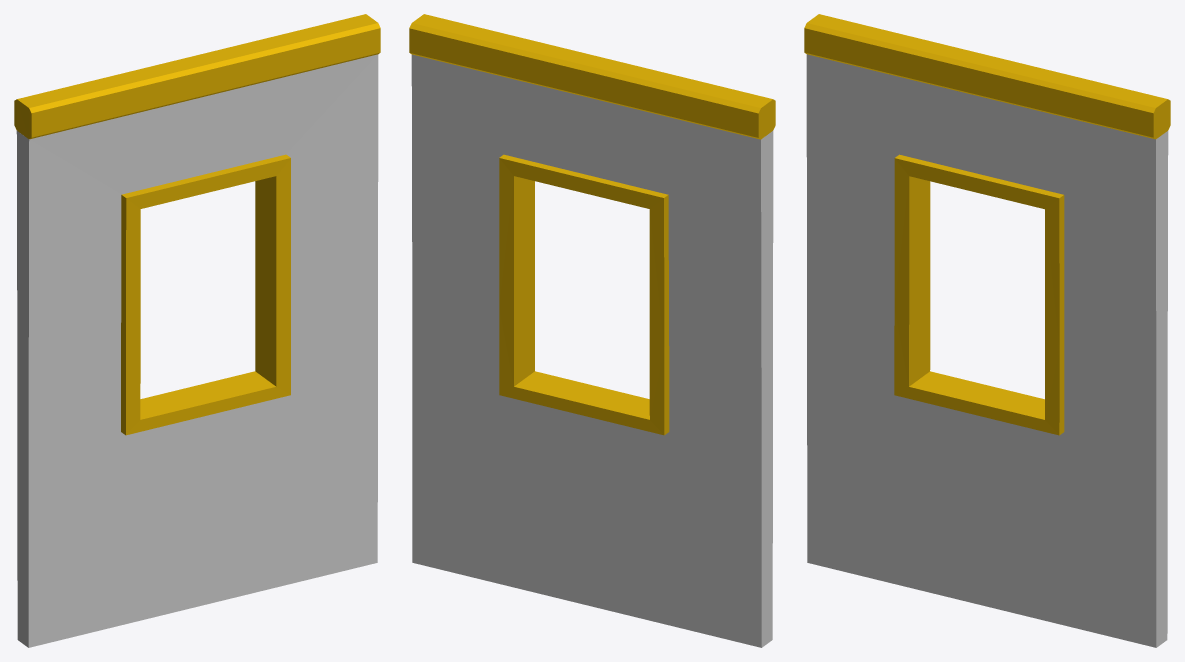
Rendered from wall_40.fbx.
3 views of the same model, side by side, from view 1: azimuth 30°, elevation 25°; view 2: azimuth 150°, elevation 25°; view 3: azimuth 330°, elevation 25° (orthographic).
Parts seen in each view (by area): view 1: WALL_5.012; view 2: WALL_5.012; view 3: WALL_5.012.
Boxes of the visible parts, box(x1,y1,x2,y2) form: WALL_5.012: box(14, 14, 380, 647); WALL_5.012: box(409, 14, 775, 647); WALL_5.012: box(804, 14, 1170, 647).
Size of the model in its own units: 3.26 by 4.83 by 0.3453.
